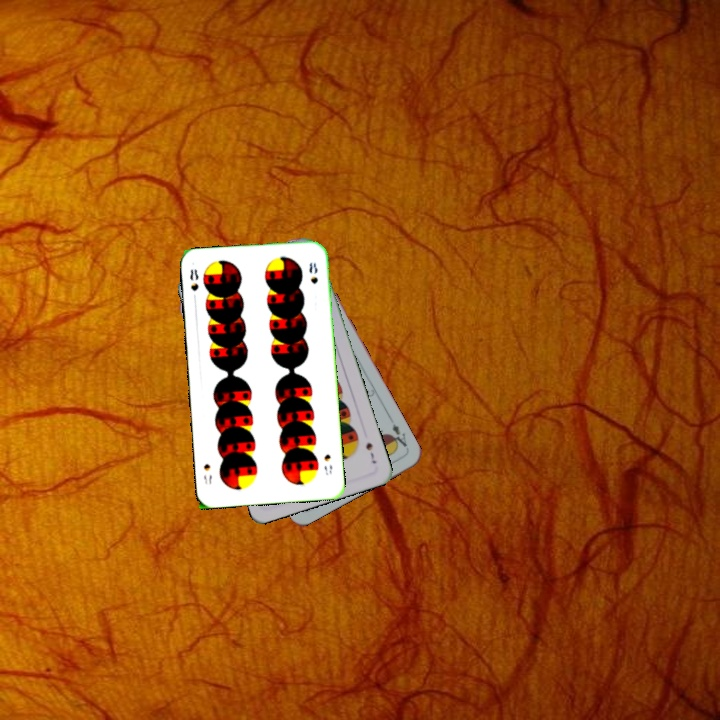EA: (386, 420, 409, 451)
S7: (362, 438, 379, 466)
S8: (186, 265, 201, 304), (320, 450, 335, 477)
